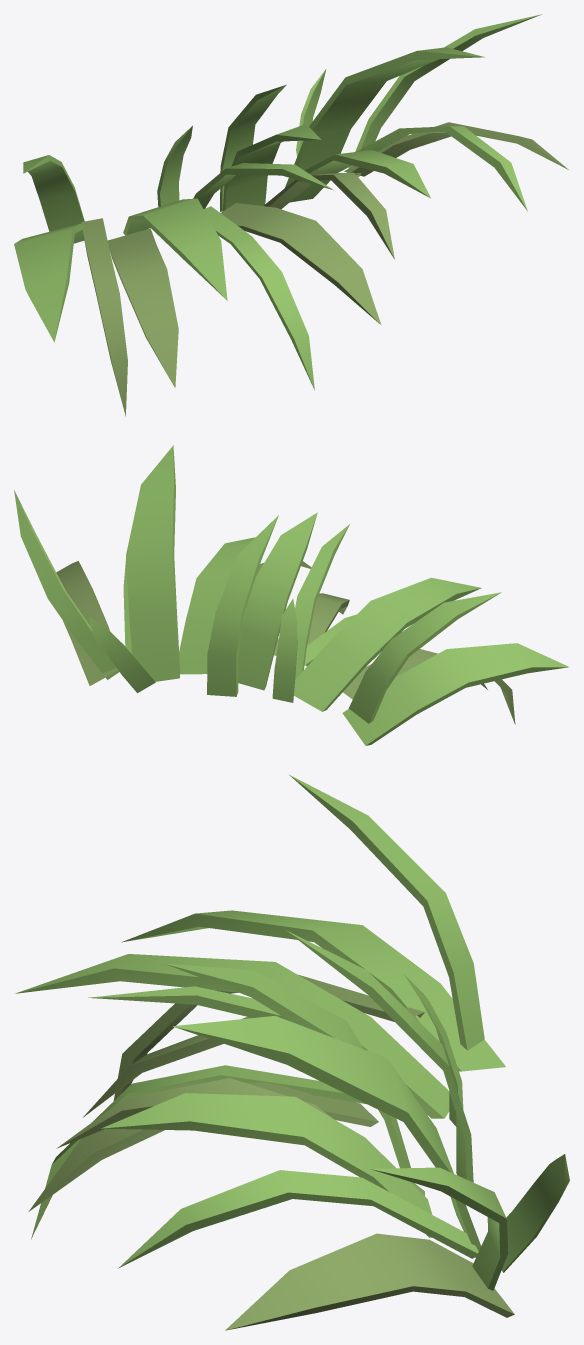
Rendered from caoc01.FBX.
The picture shows the model from 3 angles, top to bottom: view 1: azimuth 30°, elevation 25°; view 2: azimuth 150°, elevation 25°; view 3: azimuth 270°, elevation 25°; orthographic projection. The views are drawn at different scales.
Visible parts, largest first — view 1: caoc01; view 2: caoc01; view 3: caoc01.
Part boxes in pixels (bbox=[...]): caoc01: bbox=[14, 14, 568, 416]; caoc01: bbox=[14, 445, 569, 745]; caoc01: bbox=[15, 774, 569, 1330].
Bounding box in the file's own units: 93.17 × 39.26 × 51.76.
